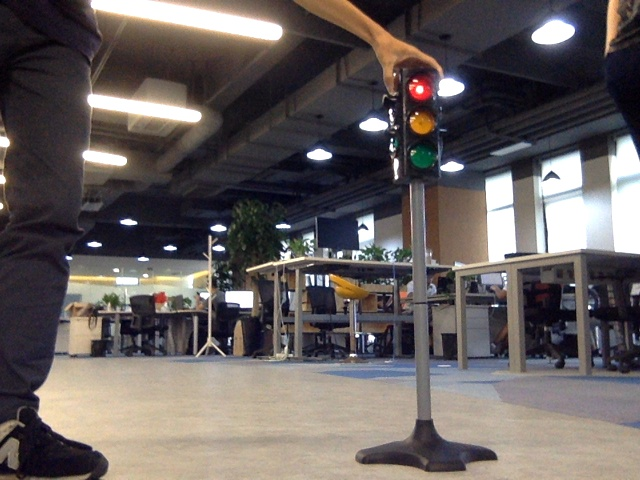red: (401, 71, 438, 166)
